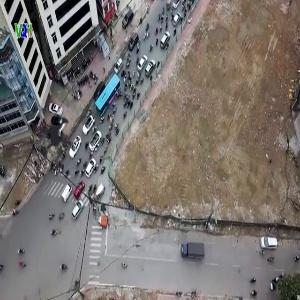drone: (14, 96, 102, 184)
